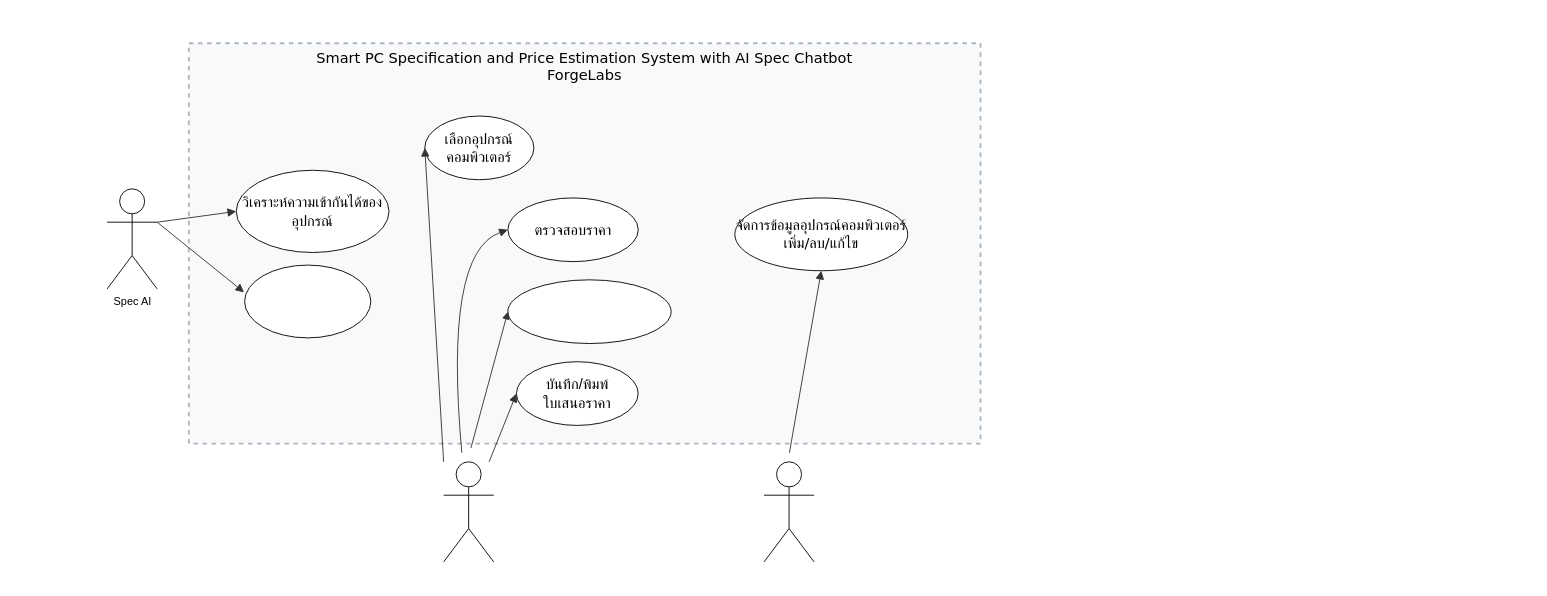
This 1547x596 diagram has some shape labels left out. Here are the shapes that lost their labels. From the top down, the box of each, then its label:
(244, 264, 371, 338): นำเสนอสเปคตามงบประมาณ
(507, 279, 671, 344): สนทนากับแชตบอต เพื่อขอคำแนะนำสเปค
(443, 461, 494, 562): User
(763, 461, 814, 562): Admin
